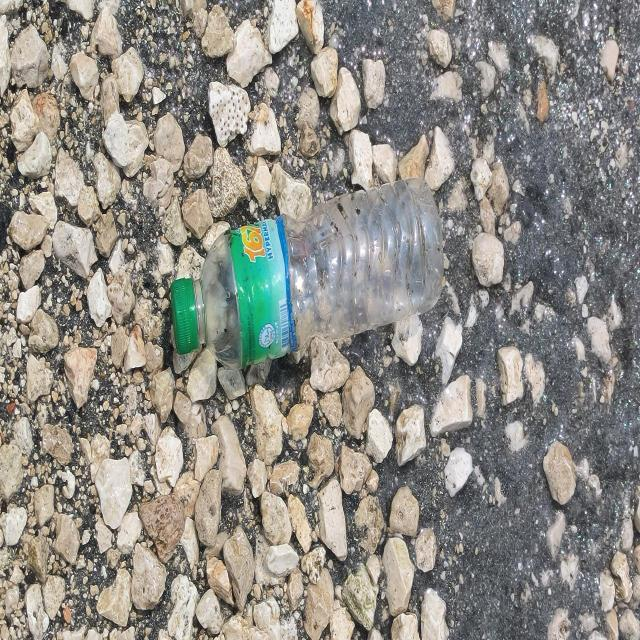plastic_waste: (171, 179, 445, 370)
